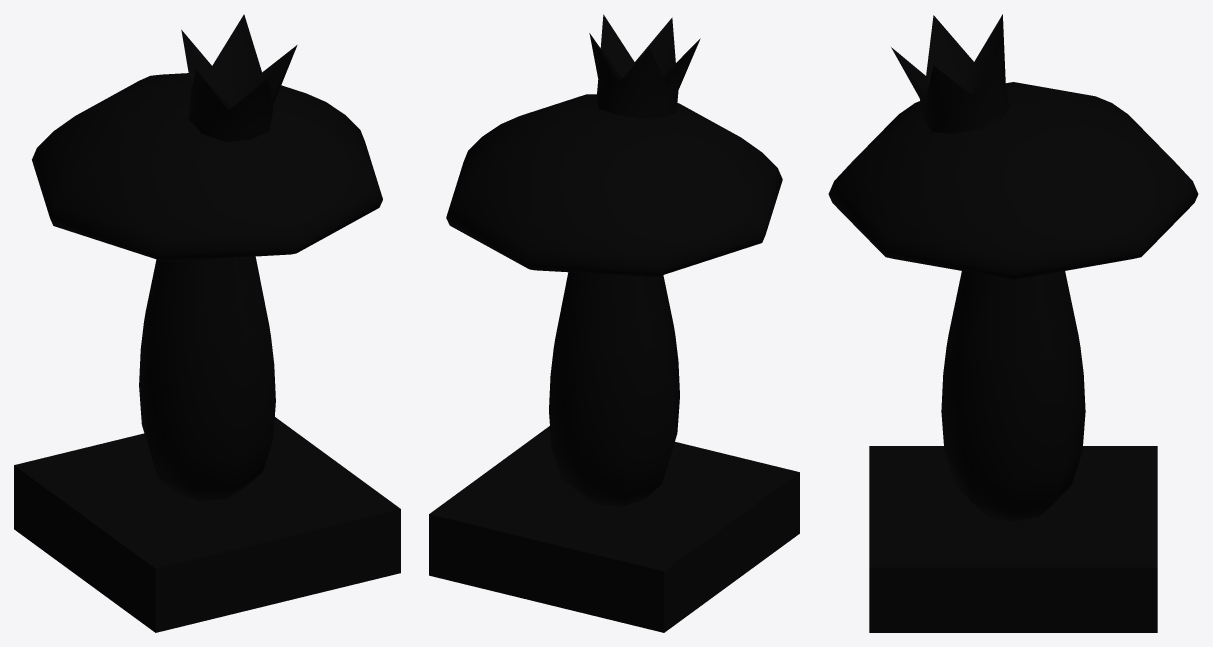
Rendered from levelStrefa4Rzezba.FBX.
3 renders of one model, left to right at view 1: azimuth 30°, elevation 25°; view 2: azimuth 150°, elevation 25°; view 3: azimuth 270°, elevation 25°, orthographic. The views are drawn at different scales.
Visible parts, largest first — view 1: Rzezba; view 2: Rzezba; view 3: Rzezba.
Boxes of the visible parts, left/top/right/bottom form: Rzezba: left=14, top=14, right=400, bottom=632; Rzezba: left=429, top=14, right=799, bottom=632; Rzezba: left=828, top=14, right=1198, bottom=632.
Bounding box in the file's own units: 51.38 × 83.12 × 51.38.
Materials: 1 (1 with a texture image).
